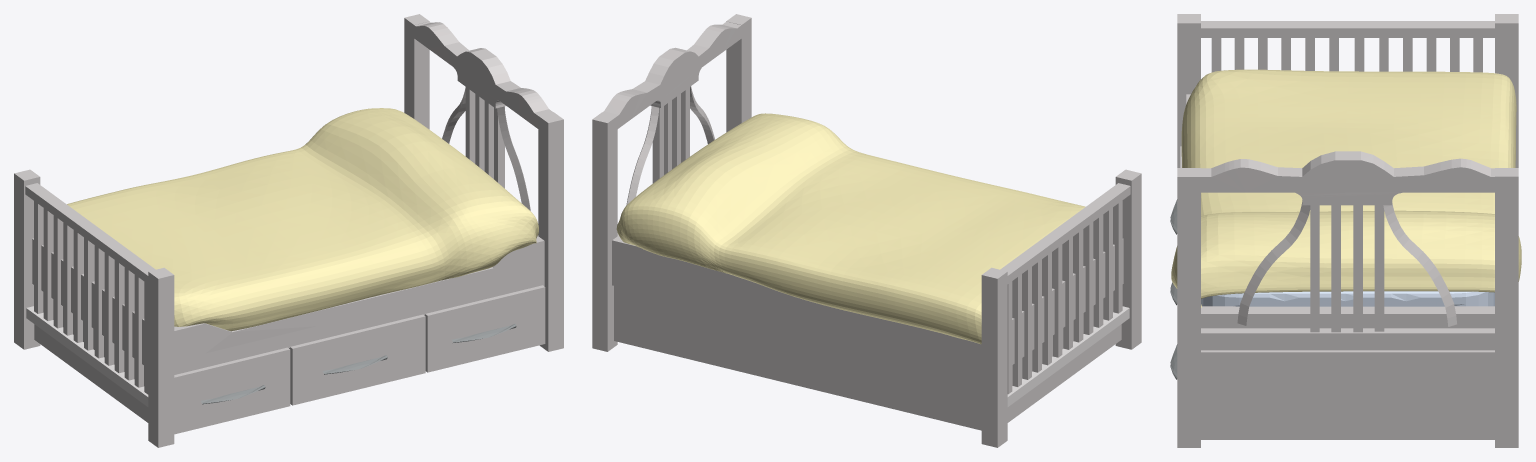
The model's file is sweethome3d-contributions-captain-s-bed.glb.
3 renders of one model, left to right at view 1: azimuth 30°, elevation 25°; view 2: azimuth 150°, elevation 25°; view 3: azimuth 270°, elevation 25°, orthographic. The views are drawn at different scales.
Parts seen in each view (by area): view 1: PolyMesh_3, PolyMesh_1, Cube_3_2, Cube_3, Cube_3_1, Cube_1_2, PolyMesh_1_4, Cube_1, Cube_1_1, Cube_1_5, Cube_1_3, Cube_5 (+18 smaller); view 2: PolyMesh_3, Cube_4, PolyMesh_1, Cube_1_3, PolyMesh_1_4, Cube_1_1, Cube_1, Cube_1_5, Cube_1_2, Cube_5, Cube_1_4, Cube_2_8 (+16 smaller); view 3: PolyMesh_3, Cube_5_1, PolyMesh_1_4, Cube_1_3, Cube_1_2, PolyMesh_2, PolyMesh_1, Cube_1_5, mattress, Cube_1, Cube_1_1, Tube_1-mirror (+9 smaller).
Part boxes in pixels (x1,y1,x2,y2): PolyMesh_3: [67, 108, 538, 331]; PolyMesh_1: [32, 235, 544, 374]; Cube_3_2: [289, 314, 425, 405]; Cube_3: [424, 285, 545, 372]; Cube_3_1: [174, 347, 290, 434]; Cube_1_2: [538, 112, 563, 351]; PolyMesh_1_4: [414, 21, 552, 128]; Cube_1: [148, 267, 174, 447]; Cube_1_1: [14, 169, 40, 349]; Cube_1_5: [25, 183, 155, 283]; Cube_1_3: [404, 14, 429, 129]; Cube_5: [34, 292, 148, 422]; PolyMesh_3: [616, 113, 1085, 344]; Cube_4: [614, 286, 981, 430]; PolyMesh_1: [612, 233, 1123, 375]; Cube_1_3: [592, 112, 617, 351]; PolyMesh_1_4: [603, 21, 741, 128]; Cube_1_1: [981, 267, 1007, 447]; Cube_1: [1115, 169, 1141, 349]; Cube_1_5: [1000, 183, 1130, 283]; Cube_1_2: [726, 14, 751, 132]; Cube_5: [1007, 291, 1121, 422]; Cube_1_4: [1007, 306, 1129, 406]; Cube_2_8: [1073, 229, 1083, 342]; PolyMesh_3: [1171, 69, 1521, 307]; Cube_5_1: [1201, 350, 1494, 439]; PolyMesh_1_4: [1201, 151, 1494, 205]; Cube_1_3: [1495, 168, 1518, 447]; Cube_1_2: [1177, 168, 1200, 447]; PolyMesh_2: [1201, 328, 1494, 350]; PolyMesh_1: [1186, 94, 1494, 328]; Cube_1_5: [1201, 21, 1494, 37]; mattress: [1201, 291, 1494, 306]; Cube_1: [1177, 14, 1200, 167]; Cube_1_1: [1495, 14, 1518, 167]; Tube_1-mirror: [1383, 203, 1456, 326].
Size of the model in its own units: 4.62 by 2.65 by 2.93.
